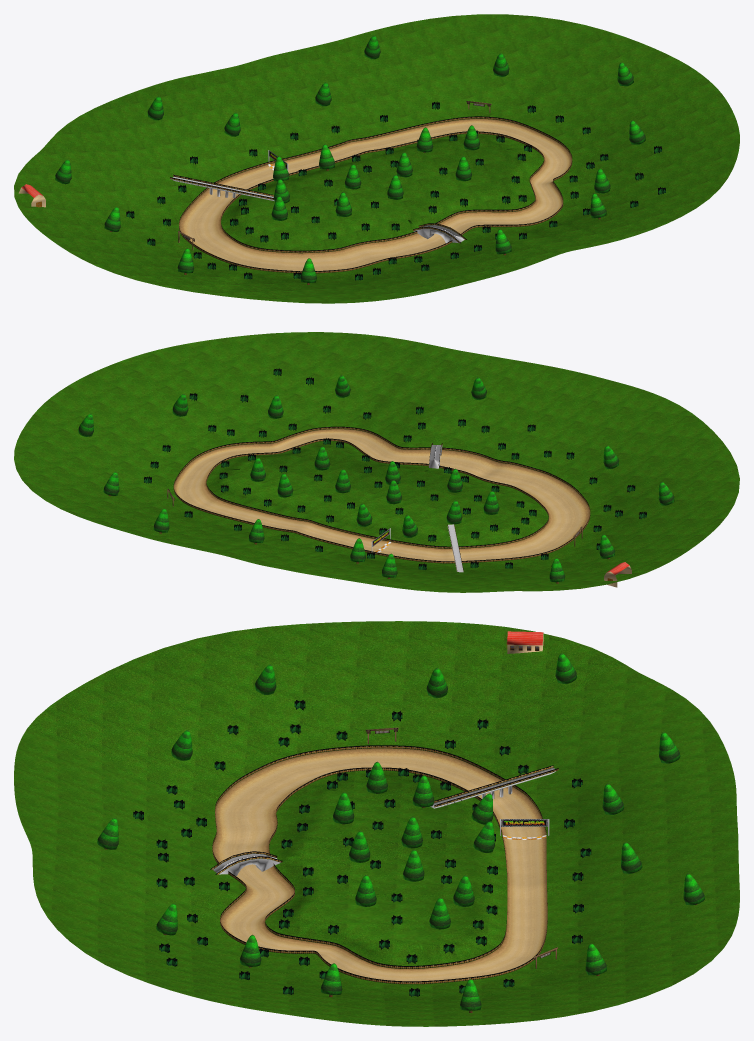
3 views of the same model, one above another, from view 1: azimuth 30°, elevation 25°; view 2: azimuth 150°, elevation 25°; view 3: azimuth 270°, elevation 25° (orthographic). The views are drawn at different scales.
Visible parts, largest first — view 1: obj_grassMesh.004, obj_roadMesh.003, obj_treeMesh.001, obj_fenceMesh.002, obj_bushMesh.001, obj_bridgeMesh; view 2: obj_grassMesh.004, obj_roadMesh.003, obj_treeMesh.001, obj_fenceMesh.002, obj_bushMesh.001, obj_bridgeMesh; view 3: obj_grassMesh.004, obj_roadMesh.003, obj_treeMesh.001, obj_bushMesh.001, obj_fenceMesh.002, obj_bridgeMesh, obj_farmMesh.
Part boxes in pixels (x1=…): obj_grassMesh.004: x1=14, y1=14, x2=739, y2=303; obj_roadMesh.003: x1=179, y1=119, x2=572, y2=271; obj_treeMesh.001: x1=55, y1=35, x2=645, y2=284; obj_fenceMesh.002: x1=170, y1=116, x2=572, y2=273; obj_bushMesh.001: x1=126, y1=101, x2=665, y2=280; obj_bridgeMesh: x1=171, y1=150, x2=464, y2=243; obj_grassMesh.004: x1=14, y1=332, x2=739, y2=592; obj_roadMesh.003: x1=173, y1=429, x2=590, y2=561; obj_treeMesh.001: x1=78, y1=375, x2=674, y2=583; obj_fenceMesh.002: x1=173, y1=426, x2=590, y2=571; obj_bushMesh.001: x1=144, y1=368, x2=646, y2=569; obj_bridgeMesh: x1=371, y1=445, x2=463, y2=572; obj_grassMesh.004: x1=14, y1=621, x2=739, y2=1026; obj_roadMesh.003: x1=212, y1=748, x2=547, y2=981; obj_treeMesh.001: x1=97, y1=653, x2=704, y2=1012; obj_bushMesh.001: x1=133, y1=700, x2=591, y2=996; obj_fenceMesh.002: x1=210, y1=745, x2=558, y2=984; obj_bridgeMesh: x1=213, y1=767, x2=555, y2=875; obj_farmMesh: x1=506, y1=631, x2=544, y2=653.
Bounding box in the file's own units: 90135 × 7305 × 67812.
10 materials, 10 textured.
